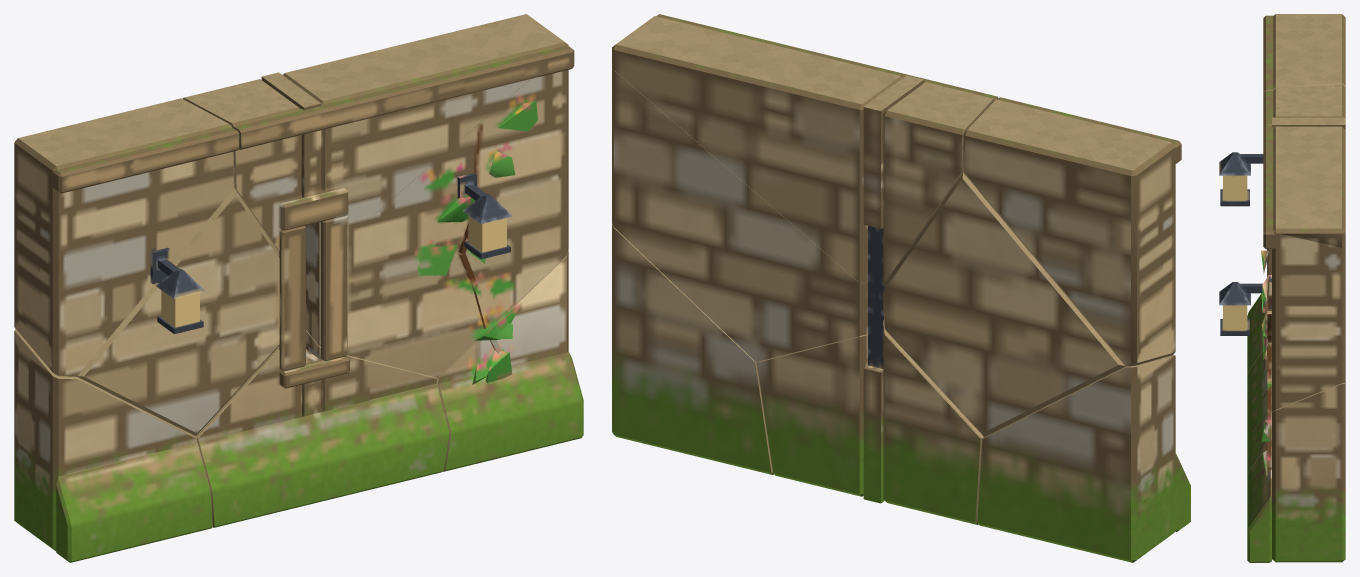
File: Kit_Keep_WallSlit_Fractured.fbx
3 renders of one model, left to right at view 1: azimuth 30°, elevation 25°; view 2: azimuth 150°, elevation 25°; view 3: azimuth 270°, elevation 25°, orthographic. The views are drawn at different scales.
Parts seen in each view (by area): view 1: Kit_Keep_WallSlit_frag_06, Kit_Keep_WallSlit_frag_03, Kit_Keep_WallSlit_frag_05, Kit_Keep_WallSlit_frag_02, Kit_Keep_WallSlit_frag_01, Kit_Keep_WallSlit_frag_04, Kit_Keep_WallSlit_frag_07; view 2: Kit_Keep_WallSlit_frag_05, Kit_Keep_WallSlit_frag_06, Kit_Keep_WallSlit_frag_03, Kit_Keep_WallSlit_frag_04, Kit_Keep_WallSlit_frag_01, Kit_Keep_WallSlit_frag_02, Kit_Keep_WallSlit_frag_07; view 3: Kit_Keep_WallSlit_frag_07, Kit_Keep_WallSlit_frag_06, Kit_Keep_WallSlit_frag_05, Kit_Keep_WallSlit_frag_03, Kit_Keep_WallSlit_frag_02, Kit_Keep_WallSlit_frag_01, Kit_Keep_WallSlit_frag_04.
Boxes of the visible parts, bbox=[...] form: Kit_Keep_WallSlit_frag_06: bbox=[306, 45, 574, 377]; Kit_Keep_WallSlit_frag_03: bbox=[14, 98, 239, 376]; Kit_Keep_WallSlit_frag_05: bbox=[183, 14, 570, 259]; Kit_Keep_WallSlit_frag_02: bbox=[196, 330, 449, 527]; Kit_Keep_WallSlit_frag_01: bbox=[14, 329, 212, 562]; Kit_Keep_WallSlit_frag_04: bbox=[77, 188, 305, 435]; Kit_Keep_WallSlit_frag_07: bbox=[436, 249, 583, 471]; Kit_Keep_WallSlit_frag_05: bbox=[612, 14, 998, 286]; Kit_Keep_WallSlit_frag_06: bbox=[612, 14, 885, 368]; Kit_Keep_WallSlit_frag_03: bbox=[962, 97, 1181, 366]; Kit_Keep_WallSlit_frag_04: bbox=[883, 172, 1125, 436]; Kit_Keep_WallSlit_frag_01: bbox=[977, 354, 1190, 562]; Kit_Keep_WallSlit_frag_02: bbox=[756, 330, 983, 524]; Kit_Keep_WallSlit_frag_07: bbox=[612, 224, 773, 474]; Kit_Keep_WallSlit_frag_07: bbox=[1247, 383, 1345, 562]; Kit_Keep_WallSlit_frag_06: bbox=[1219, 231, 1345, 442]; Kit_Keep_WallSlit_frag_05: bbox=[1263, 84, 1345, 248]; Kit_Keep_WallSlit_frag_03: bbox=[1219, 14, 1345, 200]; Kit_Keep_WallSlit_frag_02: bbox=[1247, 349, 1271, 475]; Kit_Keep_WallSlit_frag_01: bbox=[1247, 293, 1265, 374]; Kit_Keep_WallSlit_frag_04: bbox=[1220, 189, 1249, 206].
Size of what is drawn, in the model's own units: 4.2 by 3 by 1.03.
Materials: 2 (2 with a texture image).
